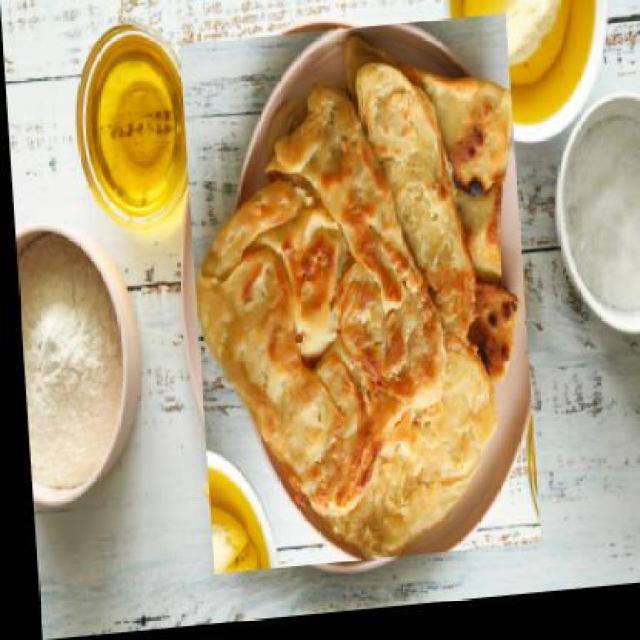chapati: (177, 23, 534, 580)
